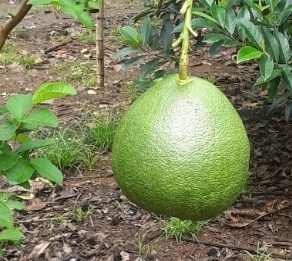Buoi: (112, 70, 255, 225)
